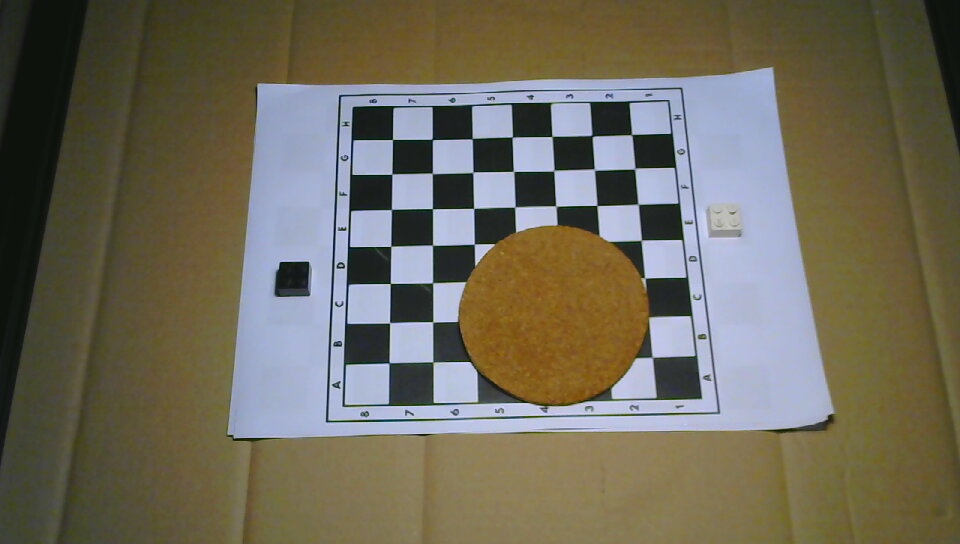bp: (277, 260, 311, 298)
wp: (705, 202, 743, 238)
